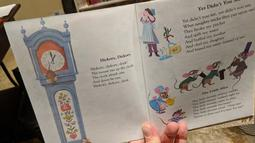text block: (181, 1, 255, 56), (186, 83, 249, 121), (86, 52, 136, 91)
